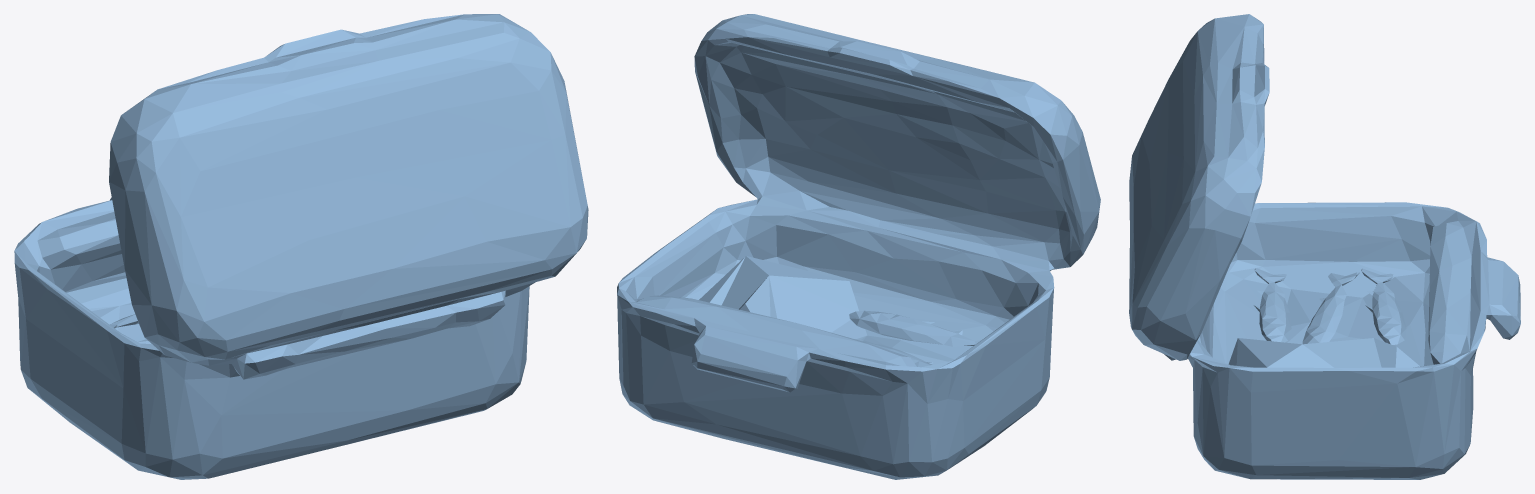
3 renders of one model, left to right at view 1: azimuth 30°, elevation 25°; view 2: azimuth 150°, elevation 25°; view 3: azimuth 270°, elevation 25°, orthographic. The views are drawn at different scales.
Parts seen in each view (by area): view 1: lunchbox; view 2: lunchbox; view 3: lunchbox.
Part boxes in pixels (<box>): lunchbox: <box>14,14,588,479</box>; lunchbox: <box>617,14,1100,479</box>; lunchbox: <box>1129,14,1520,479</box>.
Size of the model in its own units: 0.3616 by 0.308 by 0.3276.
